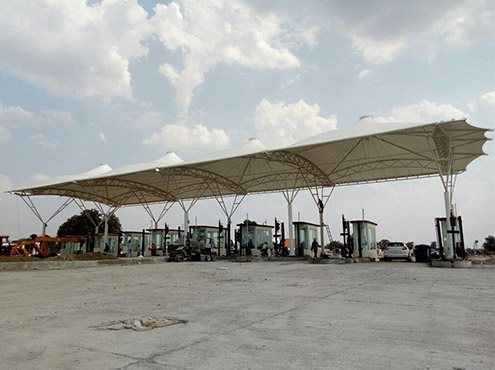toll plaza: (15, 116, 495, 266)
